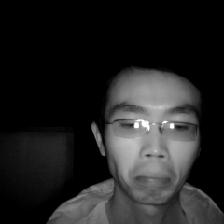sad: (93, 41, 210, 208)
